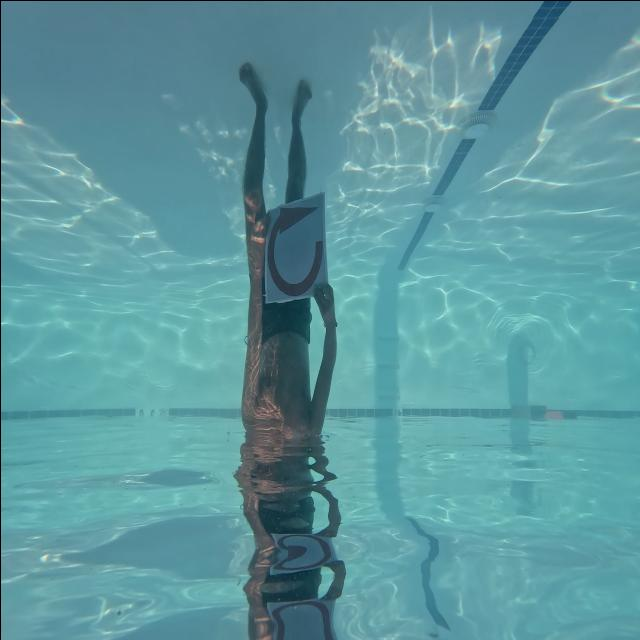red_side: (260, 192, 328, 308)
